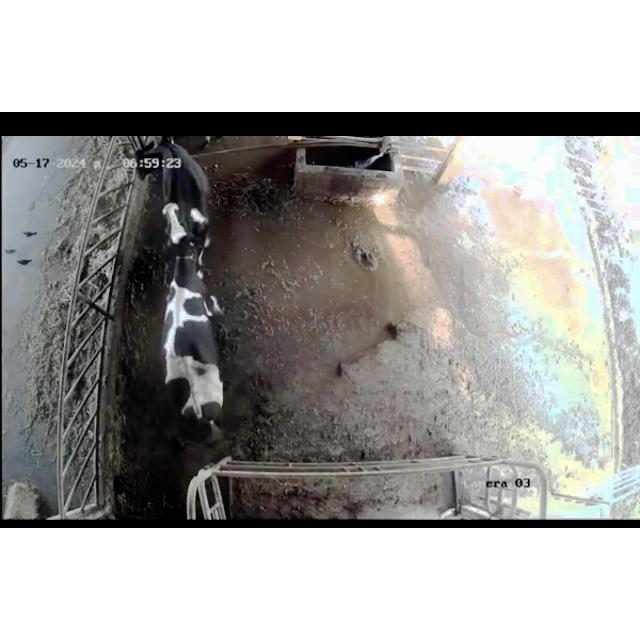propping: (151, 195, 217, 271)
stand: (126, 140, 220, 218)
